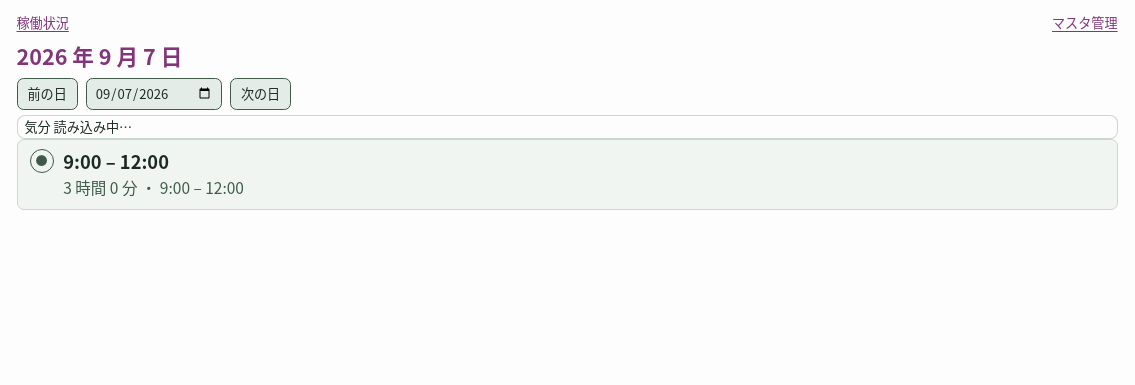
Test: 開いた行の中身 › 位置は 1 件ずつの行にならず「場所 120 件」。「この滞在を消す」は末尾に残る
Click the button "9:00 – 12:00 3 時間 0 分 ・ 9:00 – 12:00".
click(116, 161)  # box x1=63 y1=149 x2=1104 y2=200
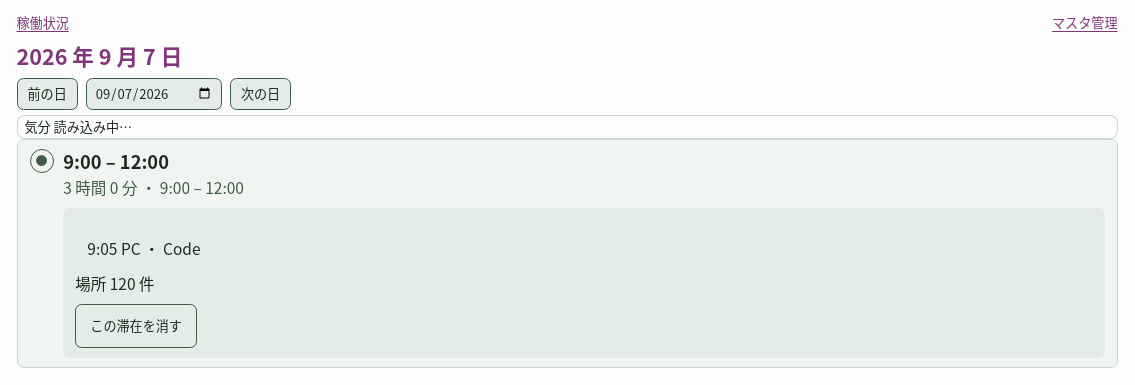
Check: the text "場所 120 件" is shown, box x1=75 y1=272 x2=155 y2=294
Check: the button "この滞在を消す" is shown, box x1=75 y1=304 x2=197 y2=348
